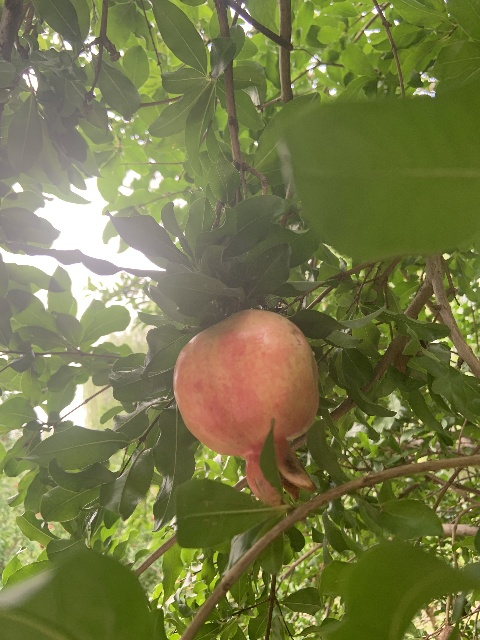ripe: (172, 308, 320, 507)
